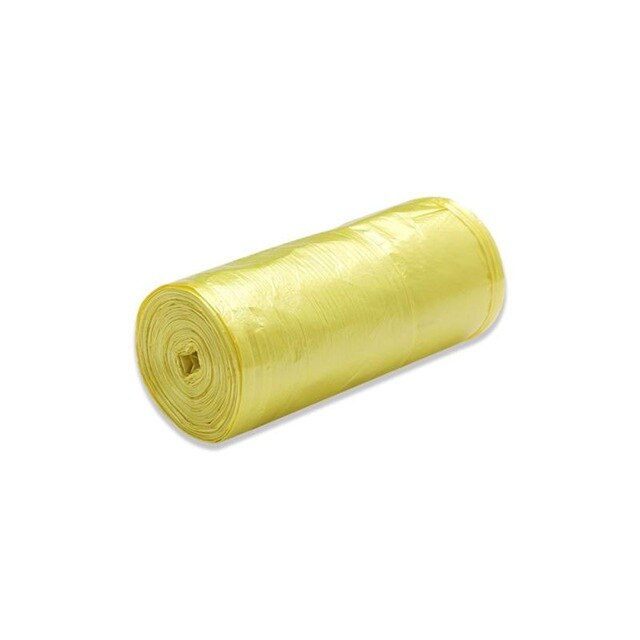plastic_bagwdw: (80, 57, 542, 519)
